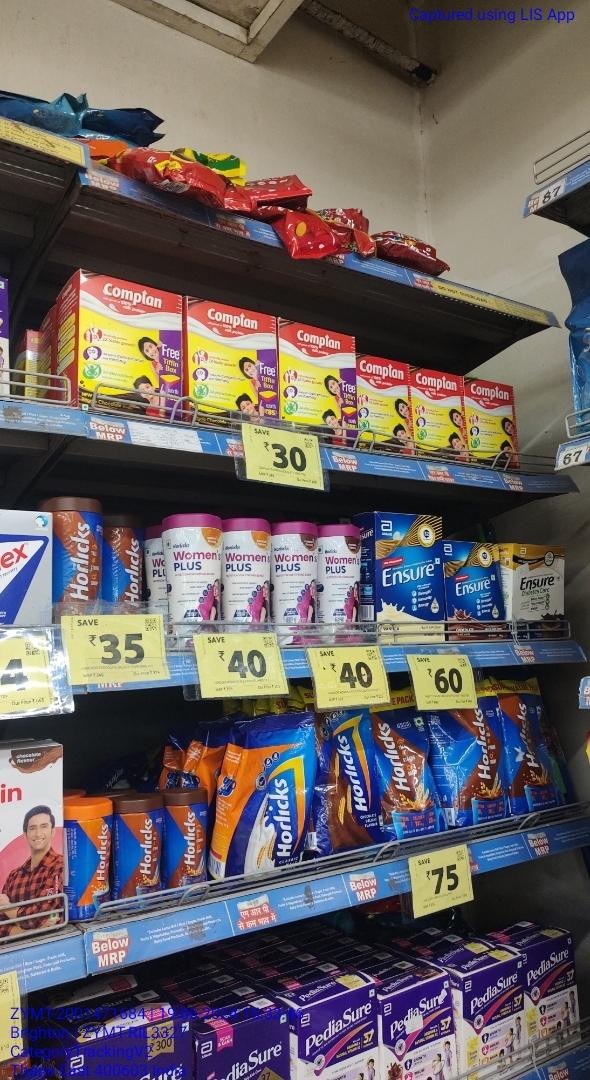ENSURE_VANILLA_400_G_PACK: (376, 510, 444, 643)
HORLICK_CHOCOLATE_200_G_JAR: (115, 798, 165, 909), (168, 789, 208, 897)
HORLICK_CHOCOLATE_500_G_JAR: (52, 500, 103, 613)
HORLICK_CLASSIC_MALT_200_G_JAR: (67, 802, 112, 922)
